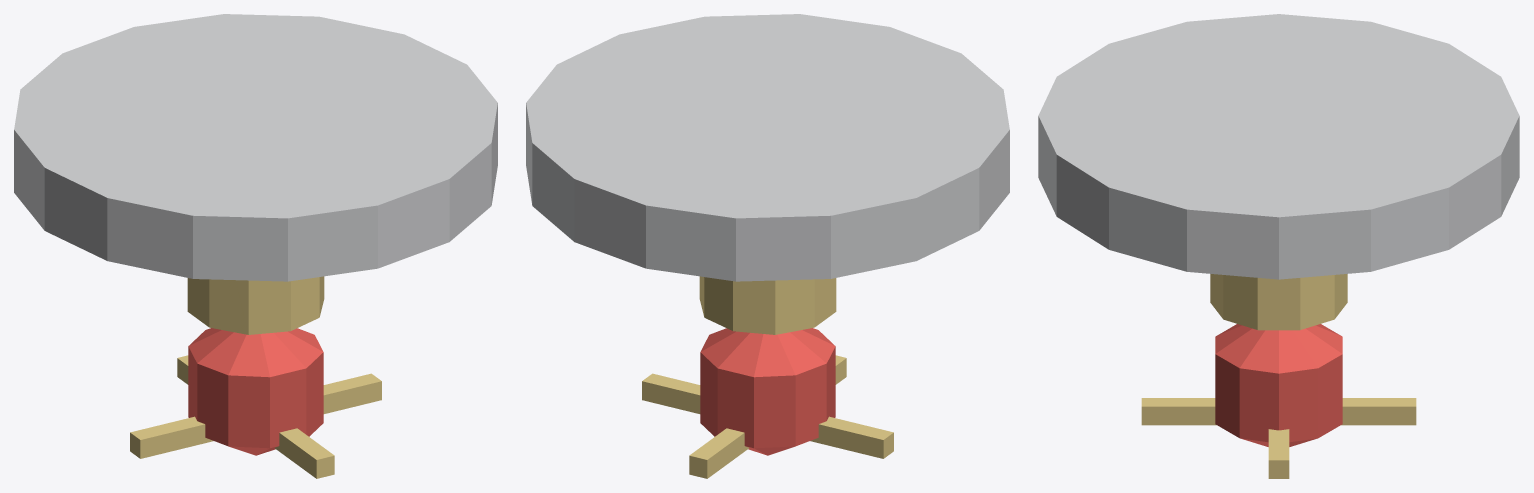
Rendered from sprinkler.glb.
3 renders of one model, left to right at view 1: azimuth 30°, elevation 25°; view 2: azimuth 150°, elevation 25°; view 3: azimuth 270°, elevation 25°, orthographic.
Parts seen in each view (by area): view 1: sprinkler; view 2: sprinkler; view 3: sprinkler.
Part boxes in pixels (x1,y1,x2,y2): sprinkler: (14, 14, 497, 478); sprinkler: (526, 14, 1009, 478); sprinkler: (1038, 14, 1519, 478).
Size of the model in its own units: 0.28 by 0.215 by 0.28.
